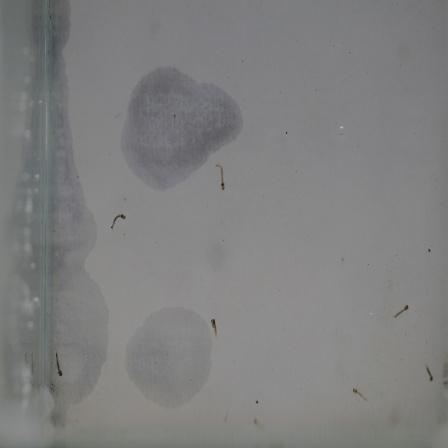Jentik-Nyamuk: (49, 346, 69, 384), (350, 383, 375, 410), (389, 299, 413, 326), (213, 159, 229, 195), (108, 209, 129, 236), (423, 362, 442, 391), (208, 314, 225, 341)
